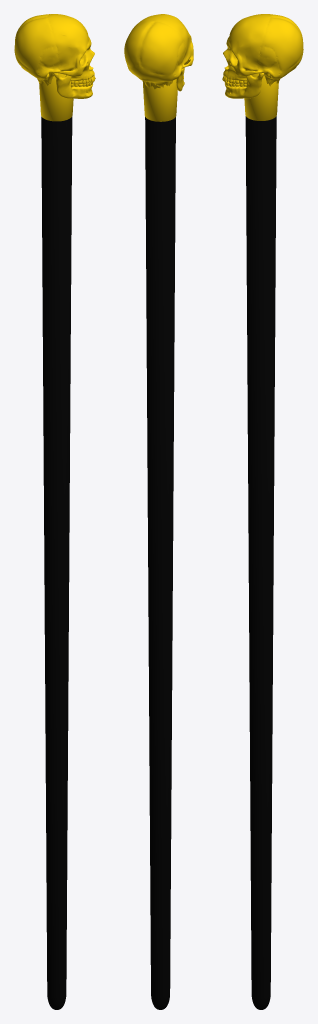
The model's file is au-caines-cane.glb.
3 renders of one model, left to right at view 1: azimuth 90°, elevation 25°; view 2: azimuth 150°, elevation 25°; view 3: azimuth 270°, elevation 25°, orthographic.
Visible parts, largest first — view 1: Cylinder.001_3_7, Group5732_001_1_5, Cylinder_0_3; view 2: Cylinder.001_3_7, Group5732_001_1_5, Cylinder_0_3; view 3: Cylinder.001_3_7, Group5732_001_1_5, Cylinder_0_3.
Boxes of the visible parts, x1,y1,x2,y2 form: Cylinder.001_3_7: (41,116,72,1009); Group5732_001_1_5: (14,14,95,98); Cylinder_0_3: (39,73,73,121); Cylinder.001_3_7: (145,117,175,1009); Group5732_001_1_5: (124,14,193,91); Cylinder_0_3: (142,79,177,121); Cylinder.001_3_7: (245,116,276,1009); Group5732_001_1_5: (222,14,303,98); Cylinder_0_3: (244,73,278,120).
Size of the model in its own units: 0.2714 by 4.96 by 0.3675.
